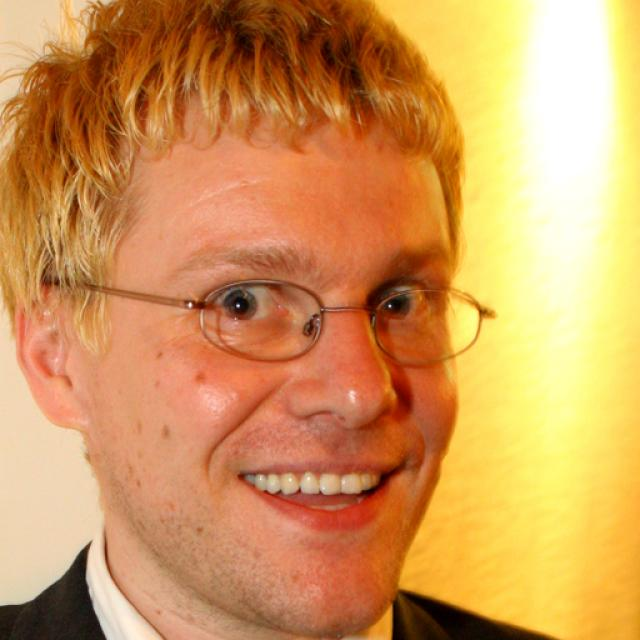Acne: (218, 382, 254, 421)
Spots: (151, 416, 180, 452), (184, 364, 218, 389), (144, 337, 171, 368), (189, 517, 212, 542), (145, 373, 165, 396)
